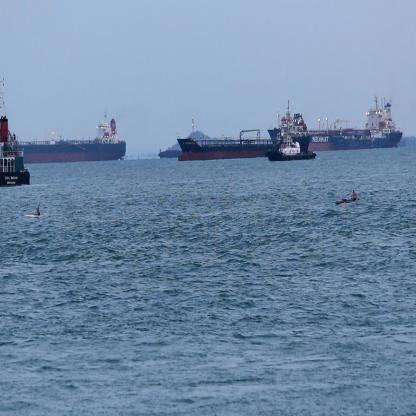Container Ship: (178, 100, 313, 161), (18, 107, 127, 163), (1, 75, 31, 188), (158, 147, 183, 159)
